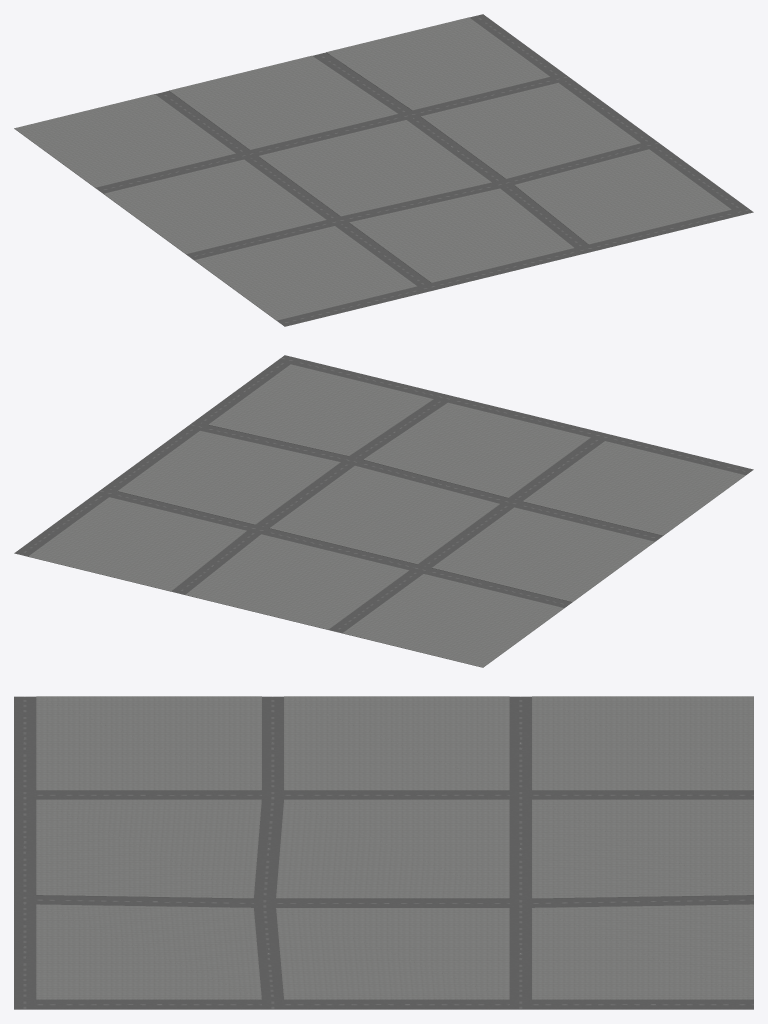
The model's file is ground2.FBX.
The picture shows the model from 3 angles, top to bottom: view 1: azimuth 30°, elevation 25°; view 2: azimuth 150°, elevation 25°; view 3: azimuth 270°, elevation 25°; orthographic projection. The views are drawn at different scales.
Visible parts, largest first — view 1: ground2_LOD0; view 2: ground2_LOD0; view 3: ground2_LOD0.
Part boxes in pixels (x1=…): ground2_LOD0: x1=14, y1=14, x2=753, y2=326; ground2_LOD0: x1=14, y1=355, x2=753, y2=667; ground2_LOD0: x1=14, y1=696, x2=753, y2=1009.
Size of what is drawn, in the model's own units: 200 by 0.1001 by 200.
